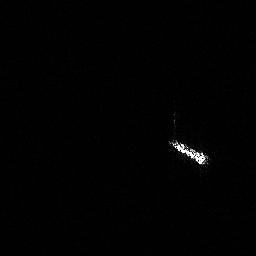ship: (167, 136, 211, 168)
